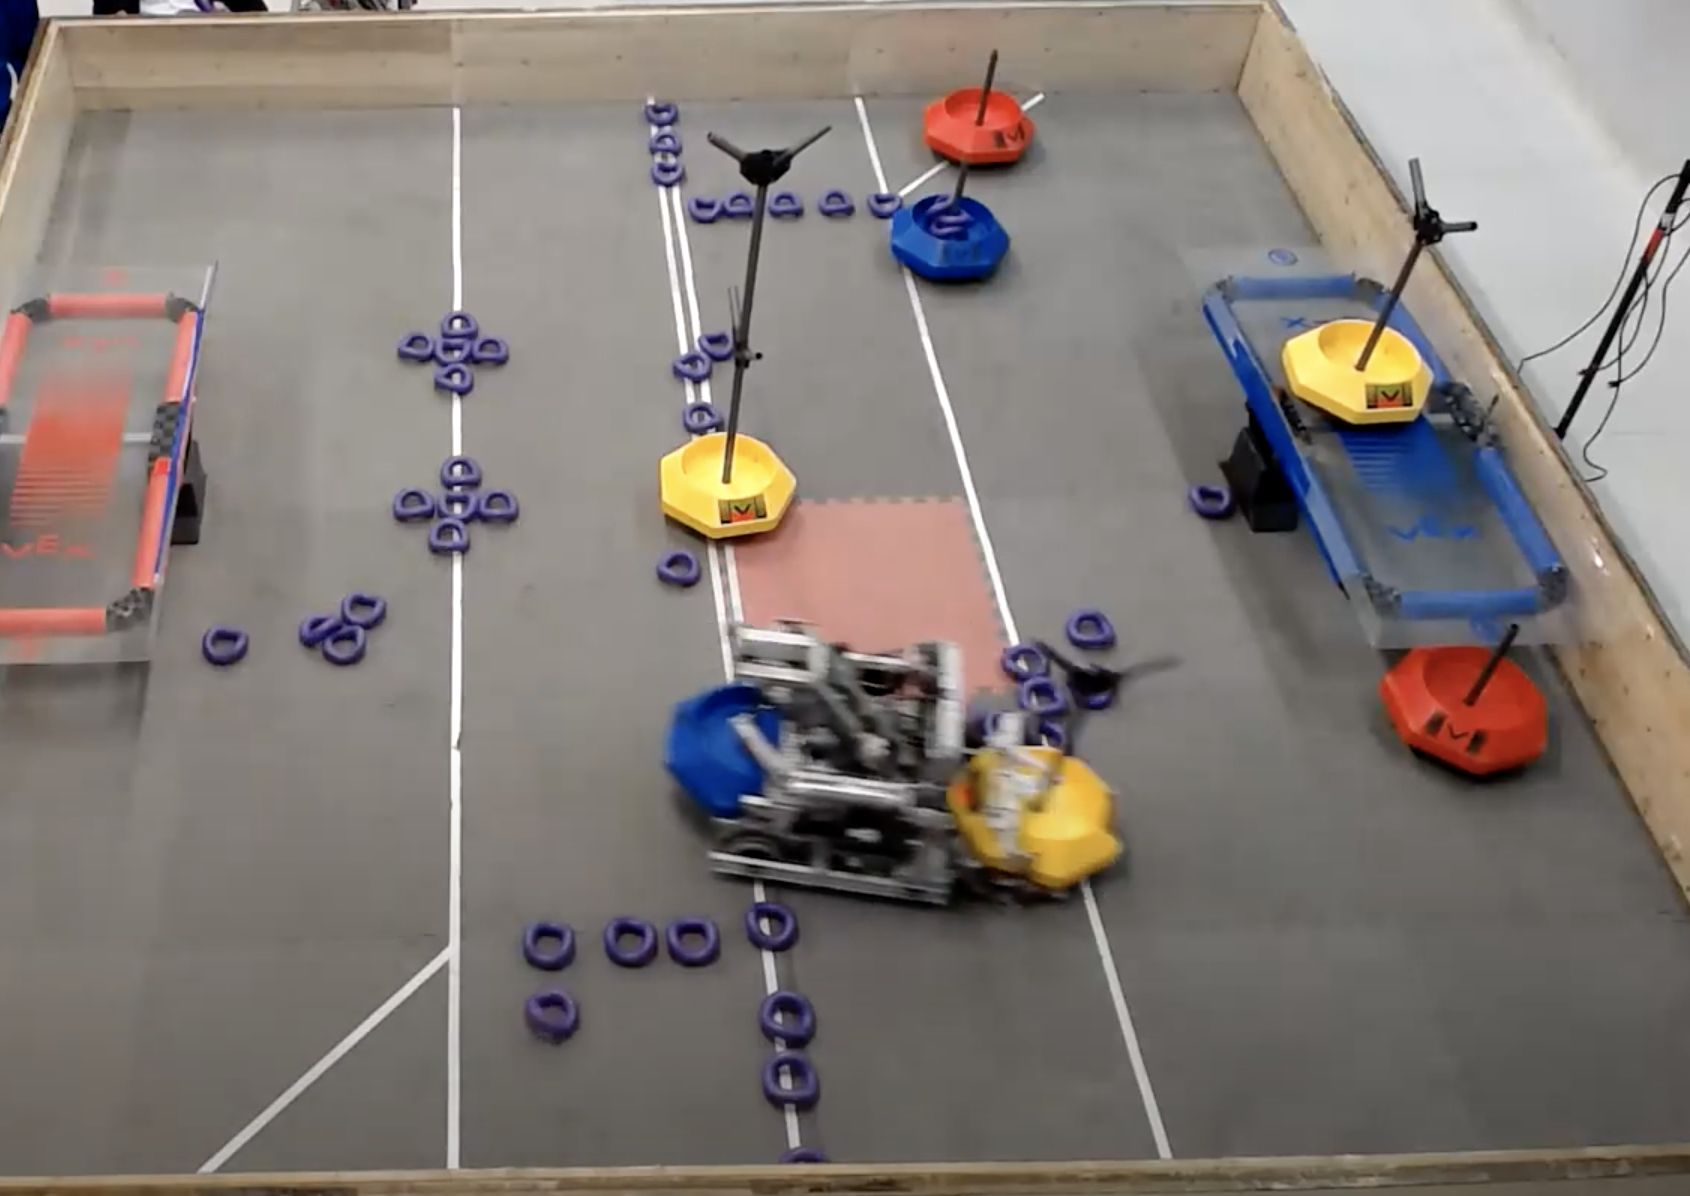ring: (756, 989, 817, 1045), (760, 1051, 820, 1104), (602, 916, 657, 967), (743, 900, 798, 949), (525, 989, 578, 1039), (666, 916, 719, 966), (523, 922, 575, 969), (1065, 608, 1115, 648), (1018, 678, 1070, 717), (1002, 643, 1052, 680), (203, 625, 248, 665), (656, 549, 701, 588), (1189, 483, 1235, 522), (324, 625, 365, 665), (1074, 670, 1115, 711), (342, 592, 386, 629), (298, 614, 342, 646), (430, 516, 468, 553), (440, 454, 481, 488), (682, 399, 723, 432), (397, 330, 436, 362), (433, 362, 474, 393), (437, 491, 477, 522), (393, 487, 433, 518), (1030, 718, 1070, 749), (672, 351, 713, 381), (480, 489, 518, 522), (433, 337, 474, 366), (440, 309, 479, 339), (817, 186, 855, 216), (697, 331, 736, 360), (776, 1146, 831, 1164), (687, 195, 723, 223), (767, 190, 804, 217), (472, 337, 507, 364), (650, 159, 685, 186), (868, 192, 903, 217), (648, 129, 682, 155), (929, 214, 967, 236), (723, 192, 754, 217), (643, 102, 677, 124), (938, 208, 974, 228), (927, 193, 954, 215)
